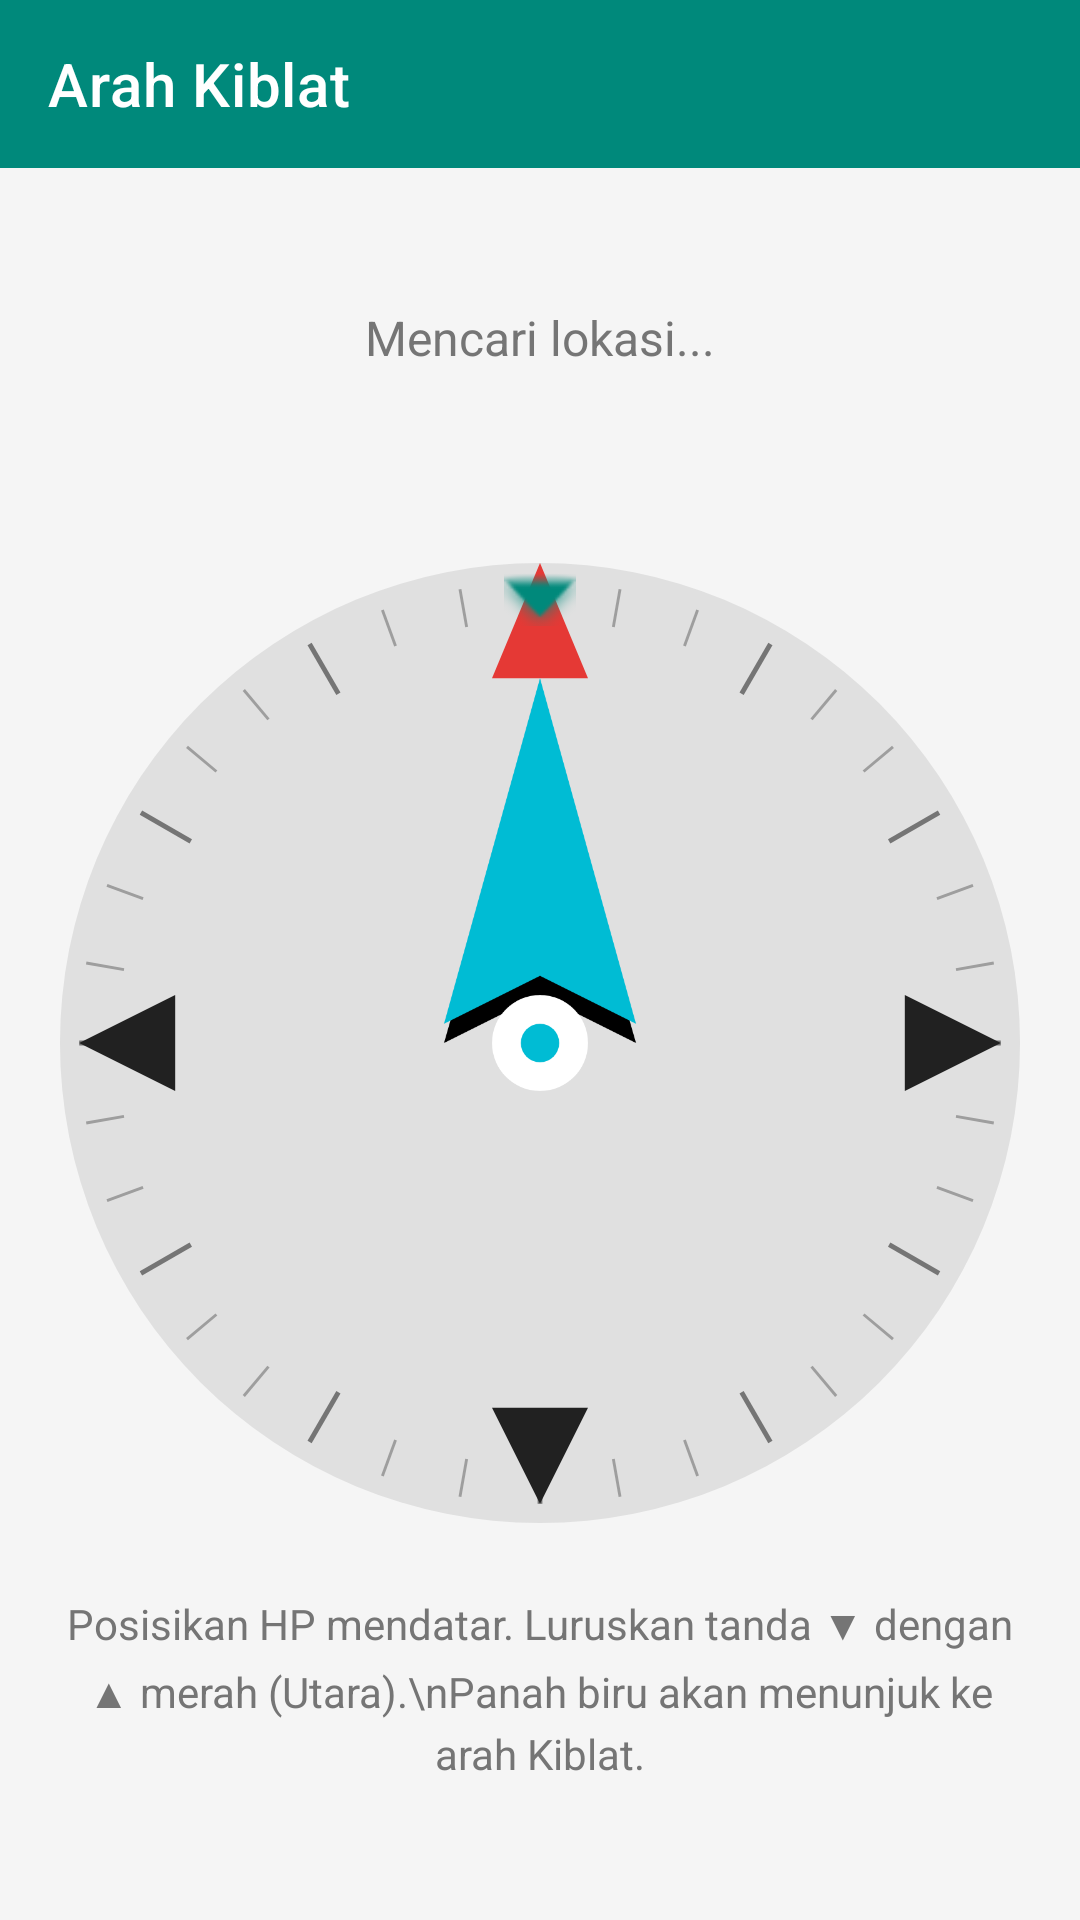

Named icons in this screenshot (1080px x 1920px) and their bounding boxes, (x1,y1,x2,y2):
Penanda Utara: (504,563,576,635)
